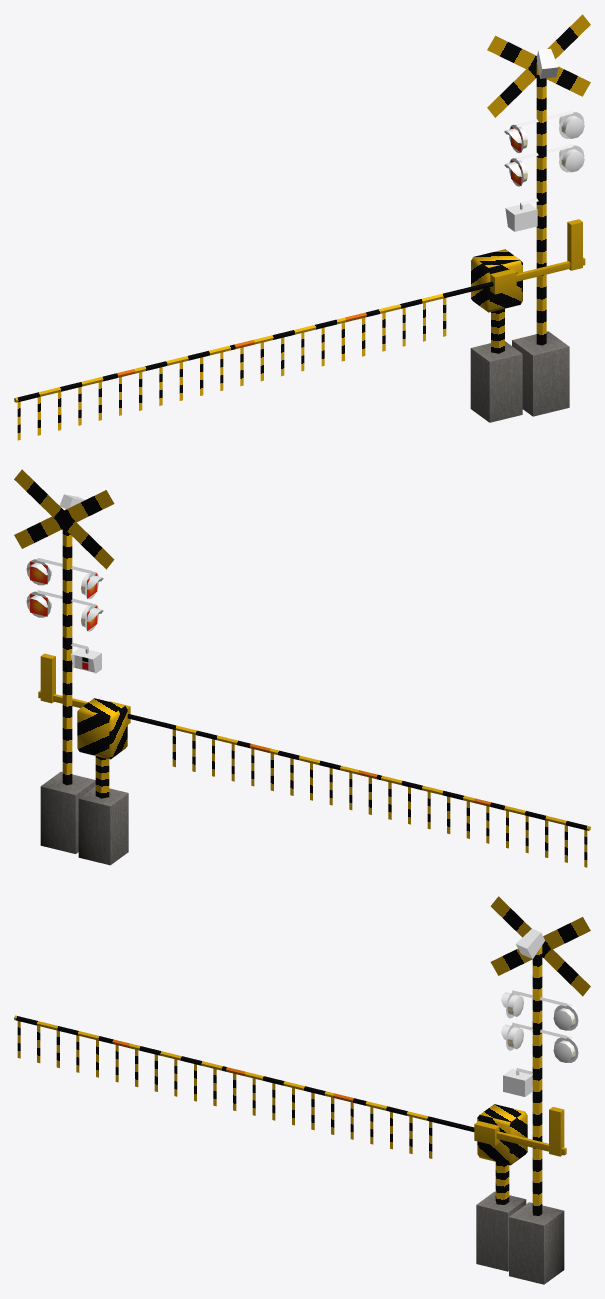
Rendered from HUMIKIRI00.glb.
3 views of the same model, one above another, from view 1: azimuth 30°, elevation 25°; view 2: azimuth 150°, elevation 25°; view 3: azimuth 330°, elevation 25° (orthographic). The views are drawn at different scales.
Visible parts, largest first — view 1: HUMIKIRI, obj4, obj13; view 2: HUMIKIRI, obj4, obj13; view 3: HUMIKIRI, obj4, obj13.
Part boxes in pixels (<box>): HUMIKIRI: <box>470,14,590,422</box>; obj4: <box>14,219,585,402</box>; obj13: <box>17,298,446,440</box>; HUMIKIRI: <box>14,469,128,865</box>; obj4: <box>38,653,590,830</box>; obj13: <box>172,729,587,867</box>; HUMIKIRI: <box>476,896,590,1284</box>; obj4: <box>14,1015,566,1156</box>; obj13: <box>17,1021,432,1158</box>.
Bounding box in the file's own units: 22.76 × 14.01 × 1.82.
Materials: 12 (12 with a texture image).
